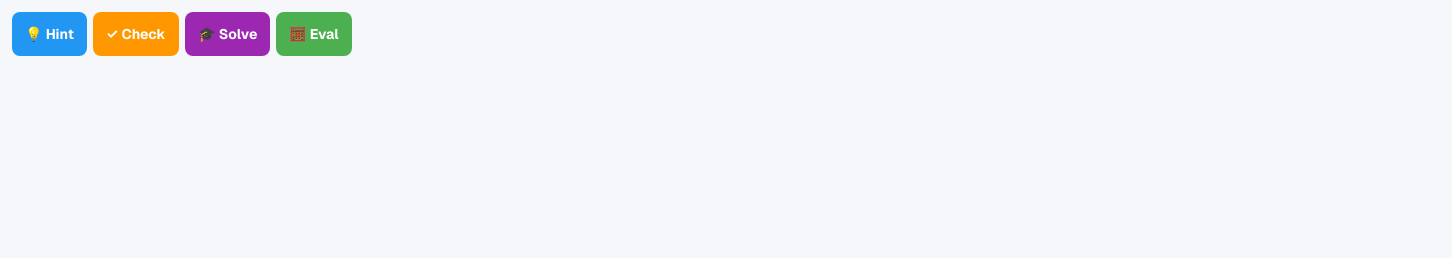
MathTutorTool: a cloud refusal › no subscription: says a cloud subscription is needed
This screenshot has width=1452, height=258.
What coordinates should you click on to do the following:
click the button with test id "math-tutor-hint"
I would click on:
 (49, 34)
Its box is [12,12,87,56].
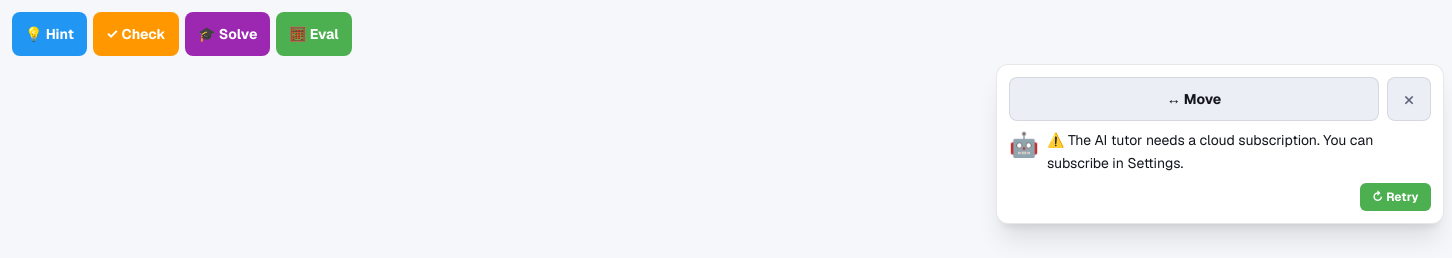
Now the text "needs a cloud subscription" is shown, box [1047,131,1373,172]
